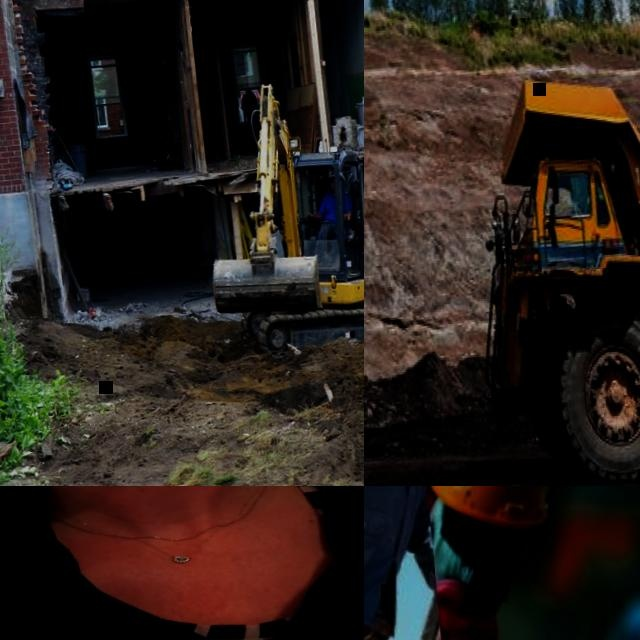Hardhat: (426, 486, 553, 533)
NO-Hardhat: (326, 168, 337, 179)
NO-Mask: (330, 187, 335, 193)
NO-Safety Vest: (0, 486, 364, 640), (364, 486, 418, 614), (592, 559, 640, 634), (322, 190, 348, 222)
Person: (0, 486, 364, 640), (419, 486, 574, 640), (364, 486, 444, 640), (580, 486, 640, 640), (586, 486, 640, 610), (300, 167, 356, 261), (575, 182, 609, 226), (239, 86, 261, 137)
Safety Vest: (579, 192, 604, 216)
machinery: (456, 38, 640, 486), (195, 72, 364, 363)
